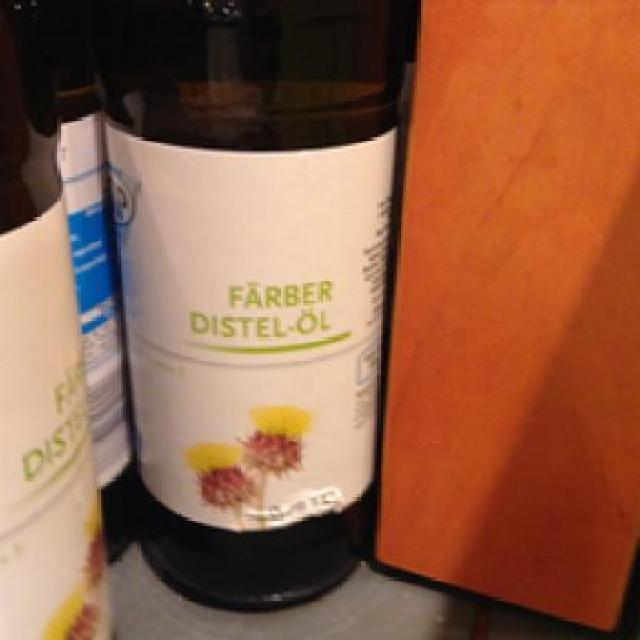Oil: (97, 0, 403, 612)
